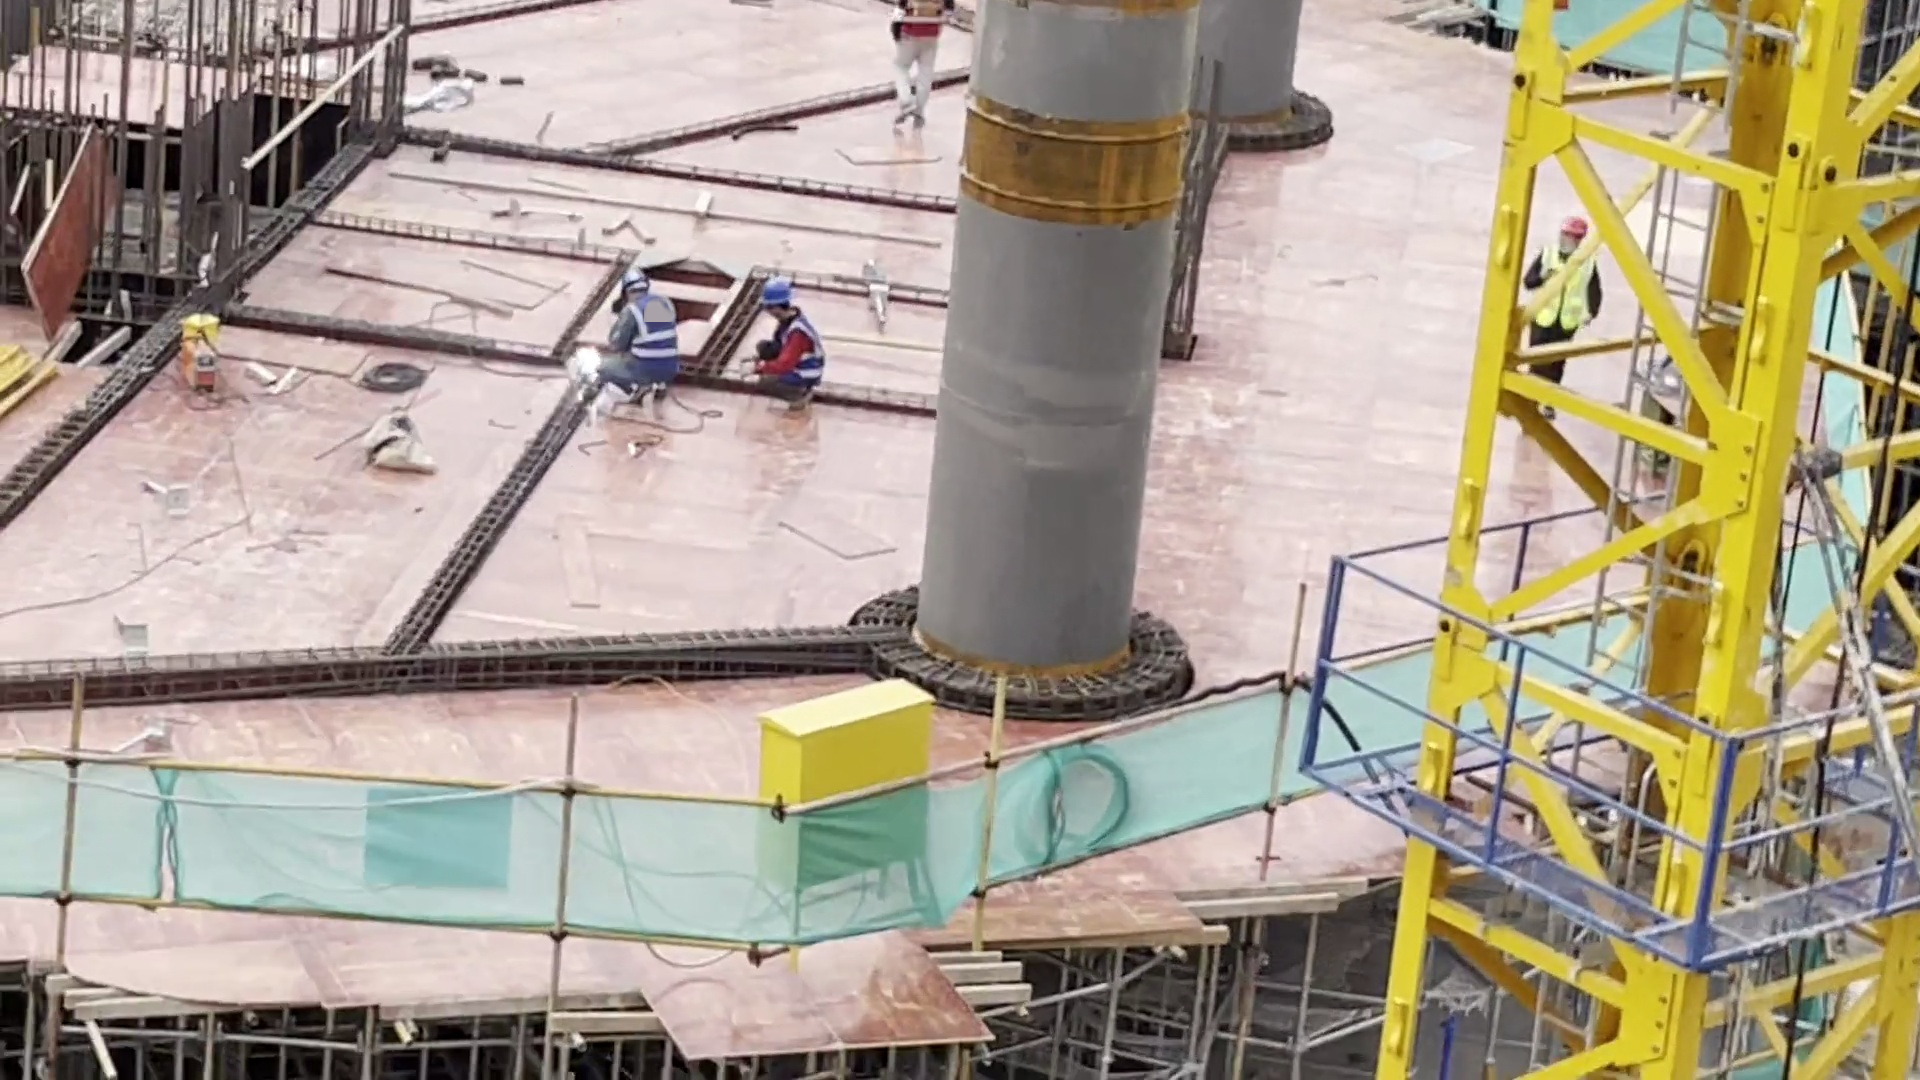ebox: (755, 676, 935, 968)
helmet: (758, 273, 794, 306), (621, 263, 651, 294)
person: (1524, 216, 1602, 436), (595, 263, 686, 403), (744, 274, 822, 412), (891, 1, 958, 145)
vest: (610, 293, 689, 382), (759, 319, 830, 389), (891, 1, 958, 42)
